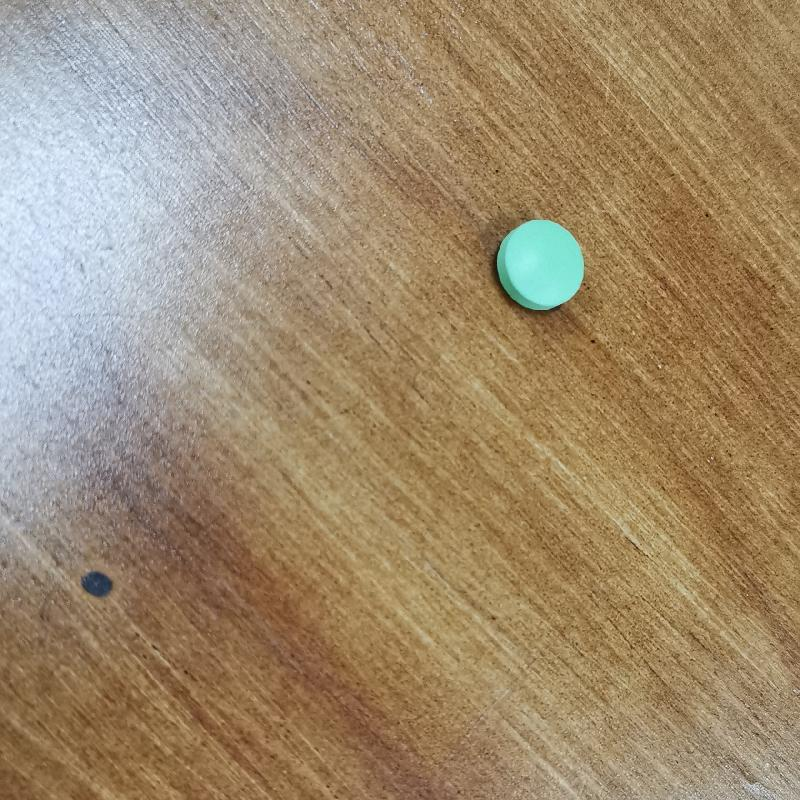pills: (483, 206, 603, 321)
